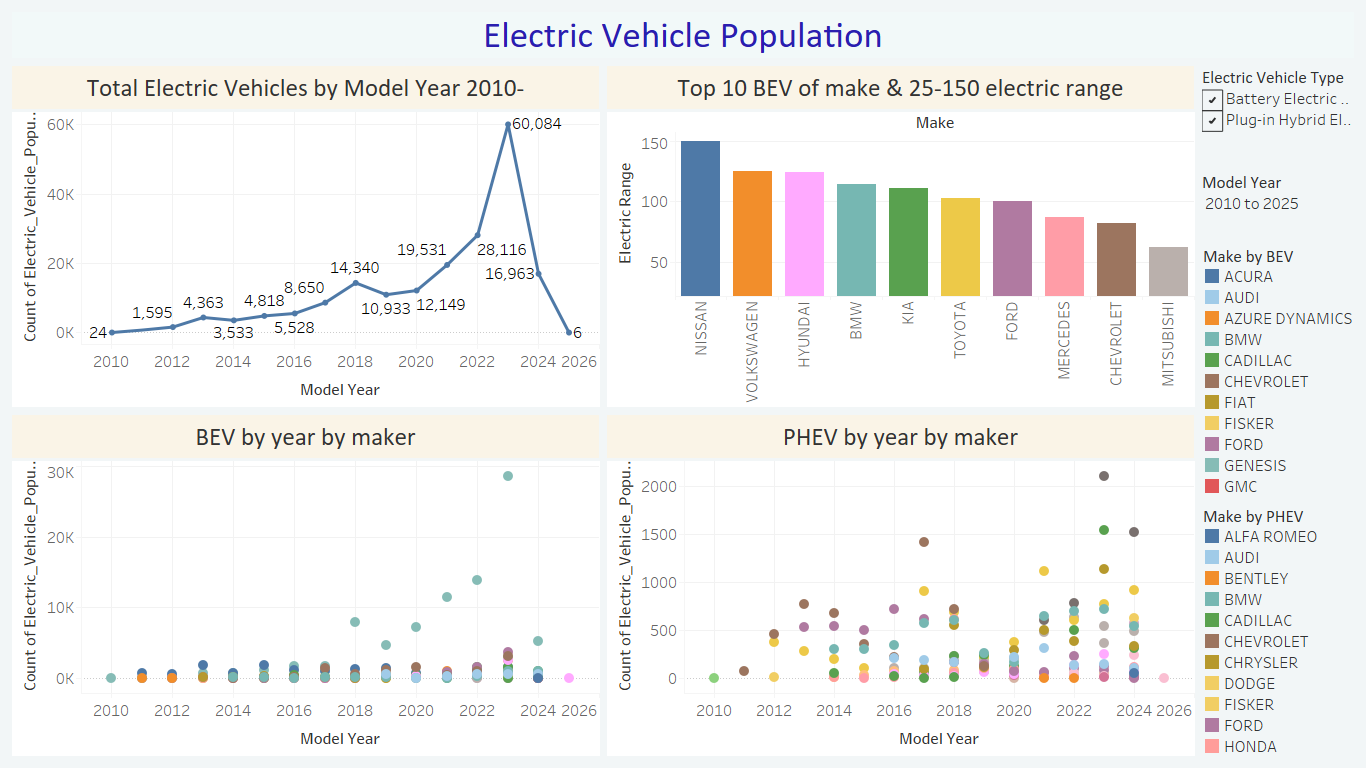

The dashboard page shown, as its layout file describes it:
{"tool":"tableau","page":{"name":"Dashboard","canvas":[1366,768],"ordinal":0},"visuals":[{"type":"title","box":[8,8,1350,54]},{"type":"worksheet","title":"1.Total Electric Vehicles by Model Year","mark":"Automatic","rows":["Electric_Vehicle_Population_Data.csv_85AF42A4FF3A40D6976FBC3"],"cols":["Model Year"],"box":[8,62,595,349]},{"type":"worksheet","title":"4. Top 10 BEV of make & (25-150)electric range","mark":"Bar","rows":["Electric Range"],"cols":["Make"],"box":[603,62,595,349]},{"type":"filter","title":"1.Total Electric Vehicles by Model Year","param":"[federated.0j0eeg41d5vxns17gwx5h1oo1aua].[none:Electric Vehicle Type:nk]","box":[1198,62,160,105]},{"type":"filter","title":"1.Total Electric Vehicles by Model Year","param":"[federated.0j0eeg41d5vxns17gwx5h1oo1aua].[none:Model Year:qk]","box":[1198,167,160,73]},{"type":"legend","title":"2. BEV by year by maker ","param":"[federated.0j0eeg41d5vxns17gwx5h1oo1aua].[none:Make:nk]","box":[1198,240,160,260]},{"type":"worksheet","title":"2. BEV by year by maker ","mark":"Circle","rows":["Electric_Vehicle_Population_Data.csv_85AF42A4FF3A40D6976FBC3"],"cols":["Model Year"],"box":[8,411,595,349]},{"type":"worksheet","title":"3. PHEV by year by maker ","mark":"Circle","rows":["Electric_Vehicle_Population_Data.csv_85AF42A4FF3A40D6976FBC3"],"cols":["Model Year"],"box":[603,411,595,349]},{"type":"legend","title":"3. PHEV by year by maker ","param":"[federated.0j0eeg41d5vxns17gwx5h1oo1aua].[none:Make:nk]","box":[1198,500,160,260]}]}

Visuals, with their boxes in screenshot pixels (x1, y1, x2, y2), scaled from the page's 1366x768 canvas onto the 1366x768 screenshot:
title: [left=8, top=8, right=1358, bottom=62]
"1.Total Electric Vehicles by Model Year" worksheet: [left=8, top=62, right=603, bottom=411]
"4. Top 10 BEV of make & (25-150)electric range" worksheet (Bar marks): [left=603, top=62, right=1198, bottom=411]
"1.Total Electric Vehicles by Model Year" filter: [left=1198, top=62, right=1358, bottom=167]
"1.Total Electric Vehicles by Model Year" filter: [left=1198, top=167, right=1358, bottom=240]
"2. BEV by year by maker " legend: [left=1198, top=240, right=1358, bottom=500]
"2. BEV by year by maker " worksheet (Circle marks): [left=8, top=411, right=603, bottom=760]
"3. PHEV by year by maker " worksheet (Circle marks): [left=603, top=411, right=1198, bottom=760]
"3. PHEV by year by maker " legend: [left=1198, top=500, right=1358, bottom=760]
